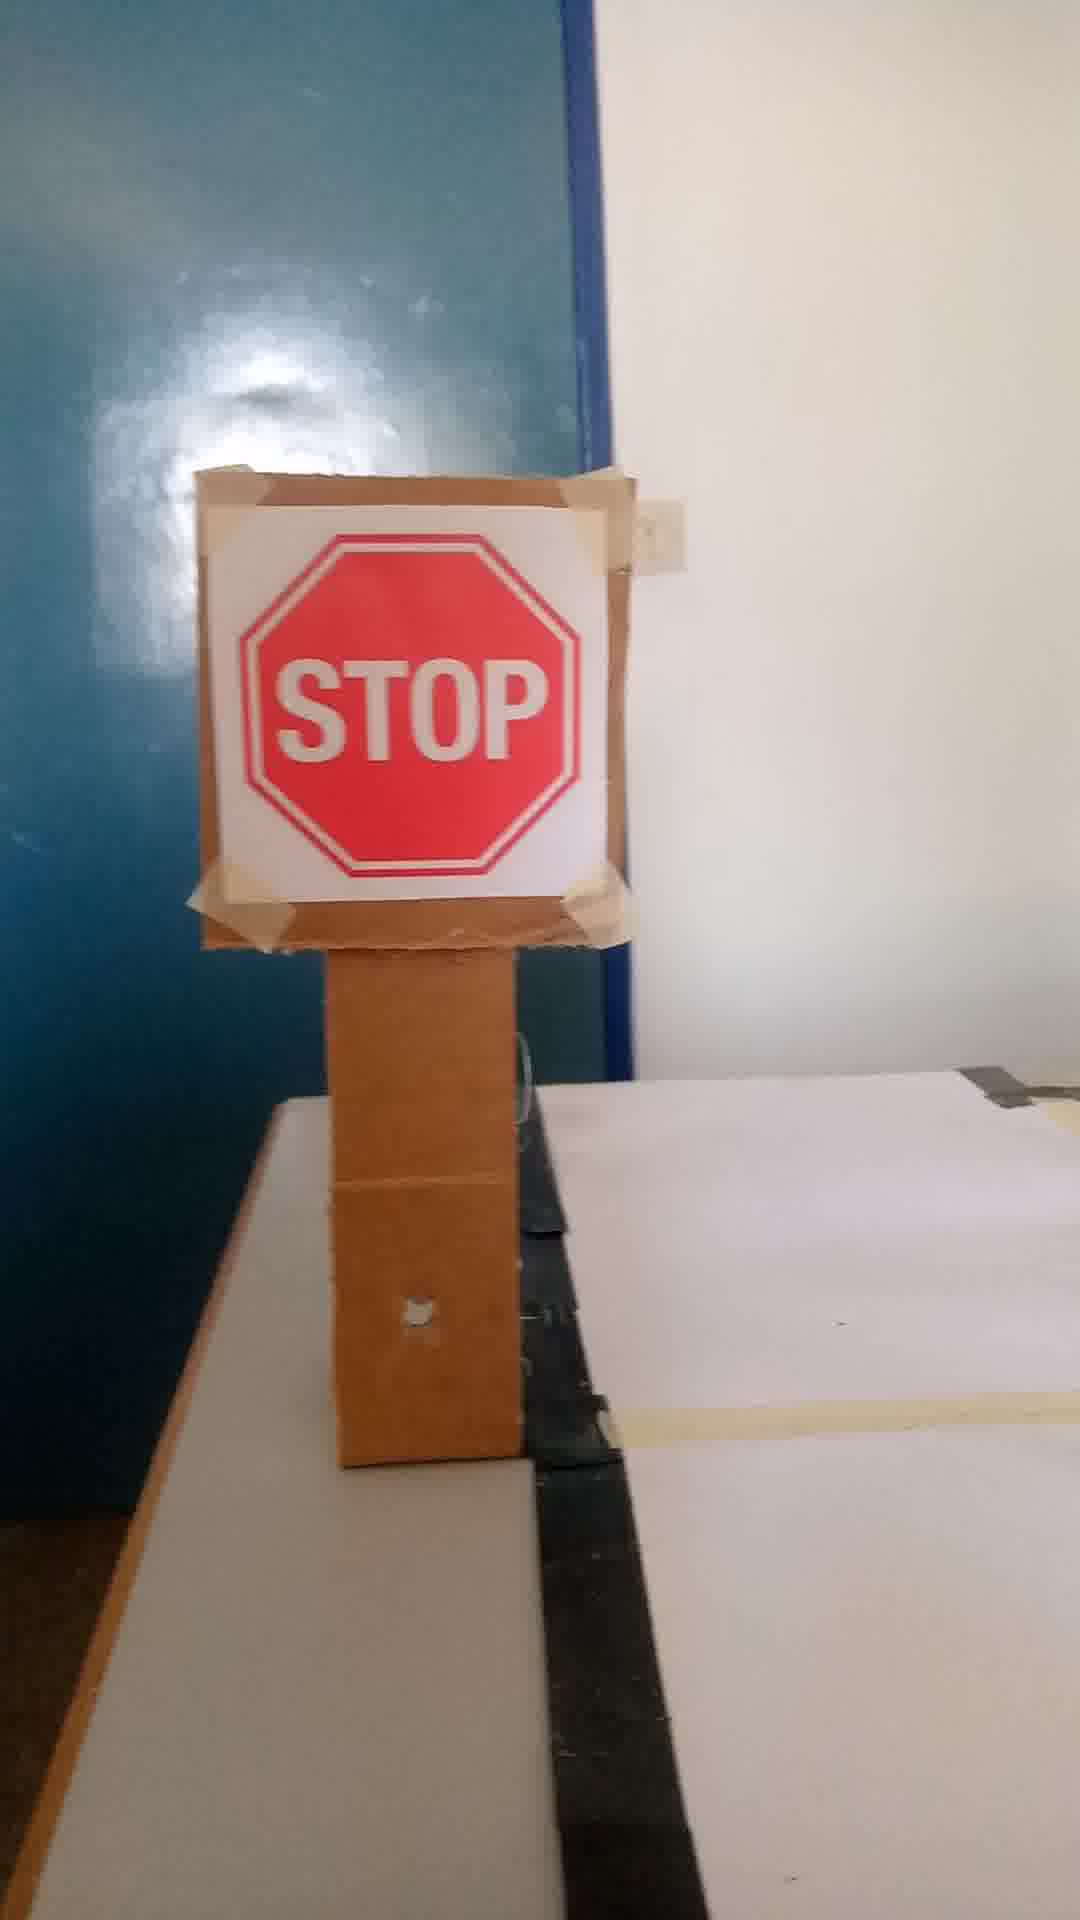panel101: (195, 489, 621, 926)
